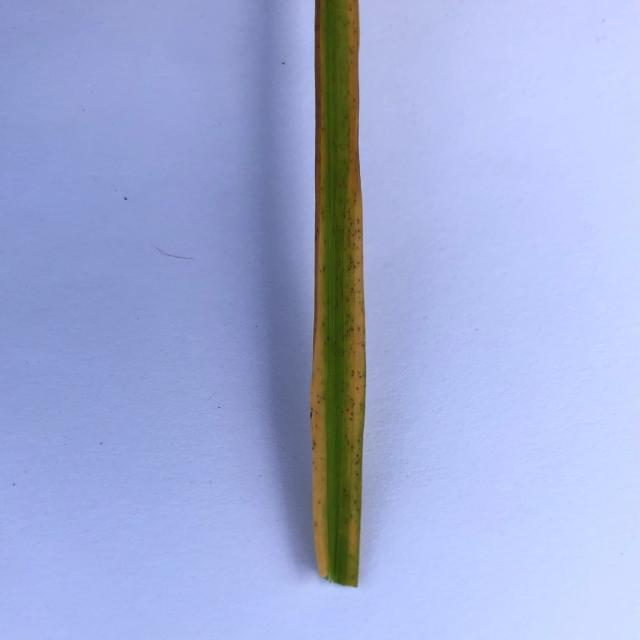Rice Tungro: (340, 150, 364, 585), (314, 152, 334, 575)
